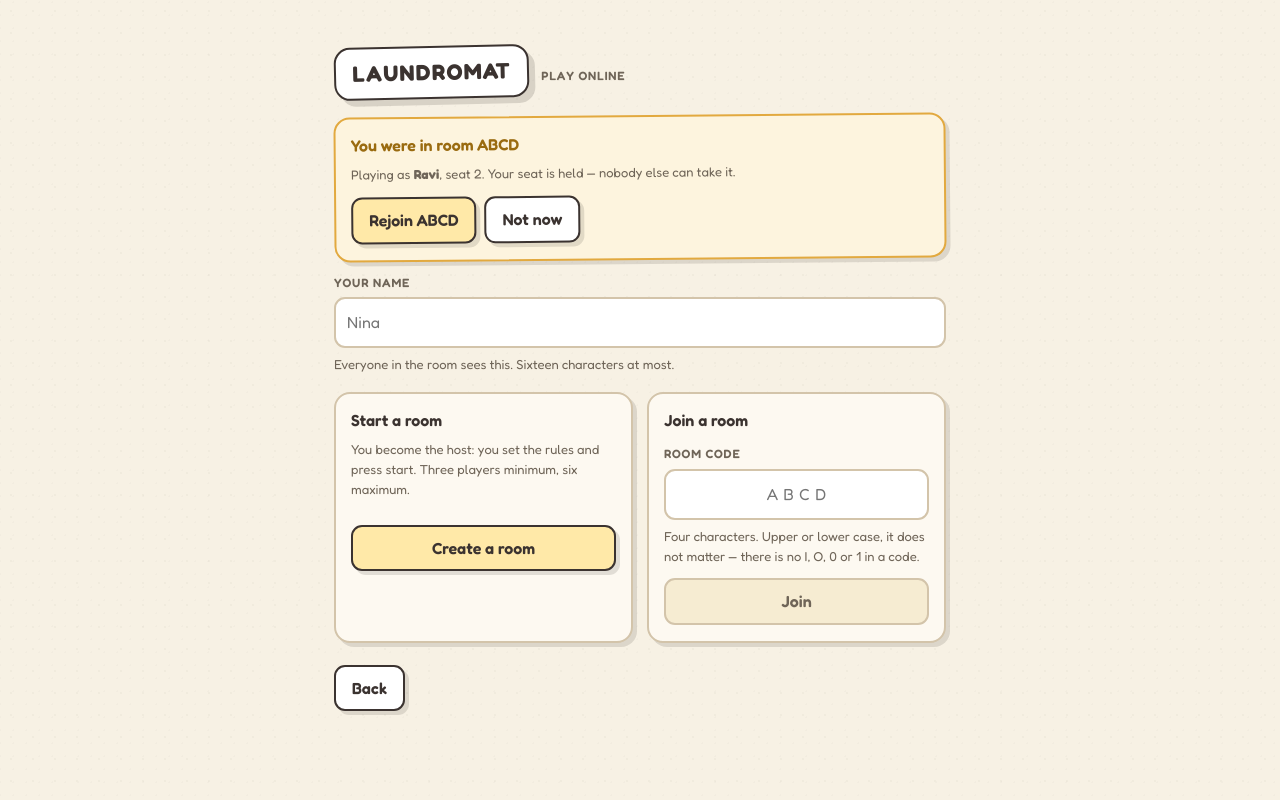
Scenario: reconnection › rejoining a lobby that is still waiting returns you to the lobby
The width and height of the screenshot is (1280, 800).
Click the button "Rejoin ABCD".
click(414, 220)  # box [351,196,477,244]
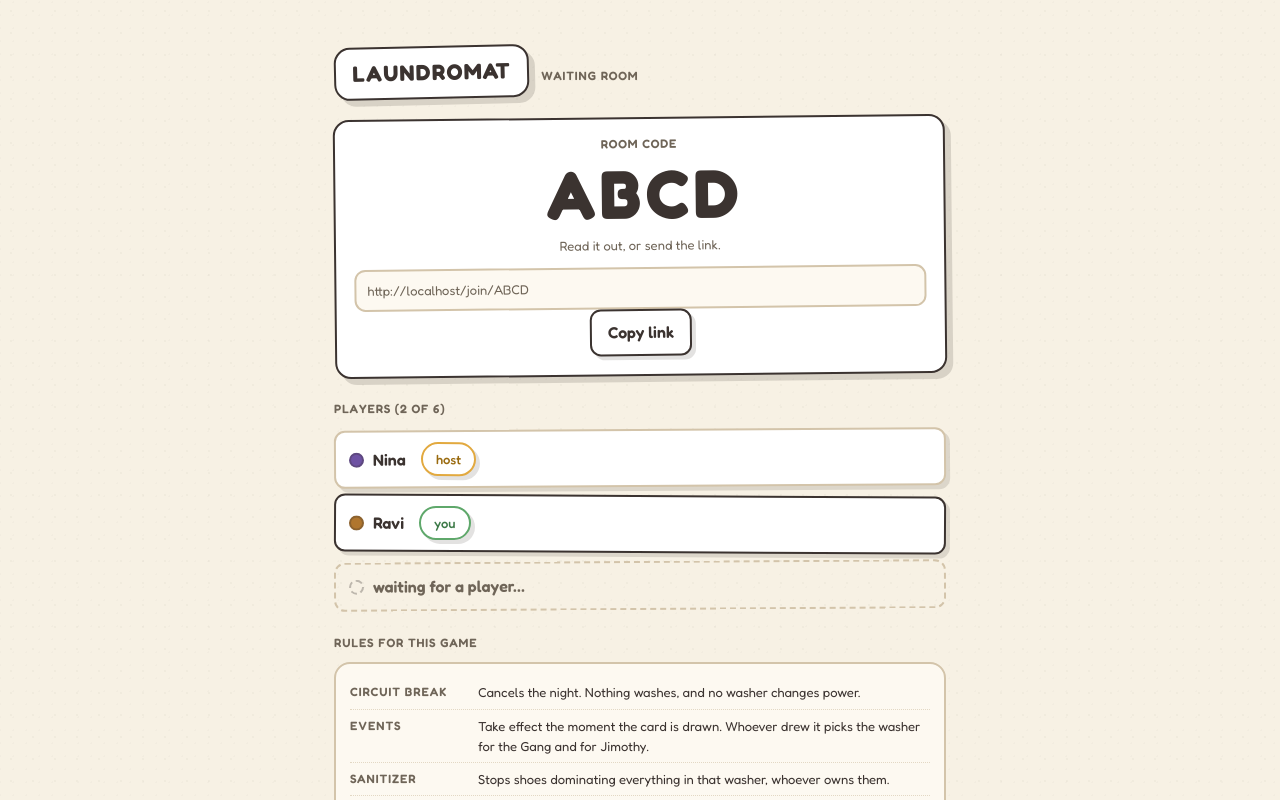
Now the text "Waiting room" is shown, box [541,67,638,86]
